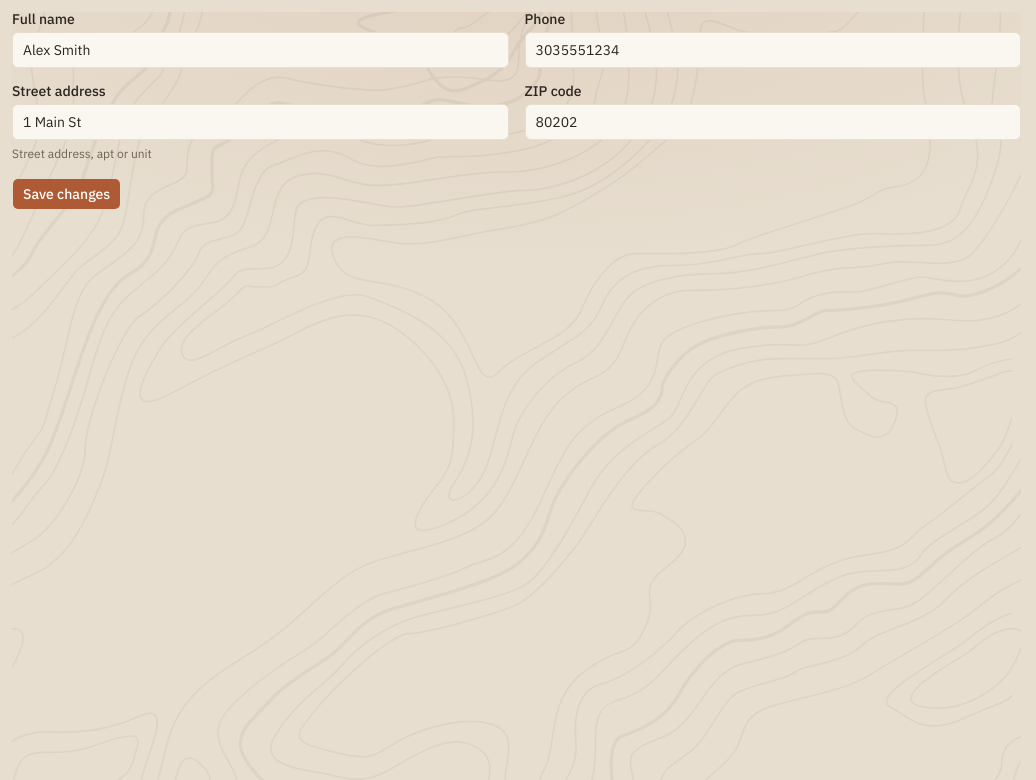
Test case: ProfileForm › preserves edited values and shows the error on server failure
Replace the text in the field labelled "Full name" with "Alex Newname" at x=260, y=50, box [12,32,508,68]
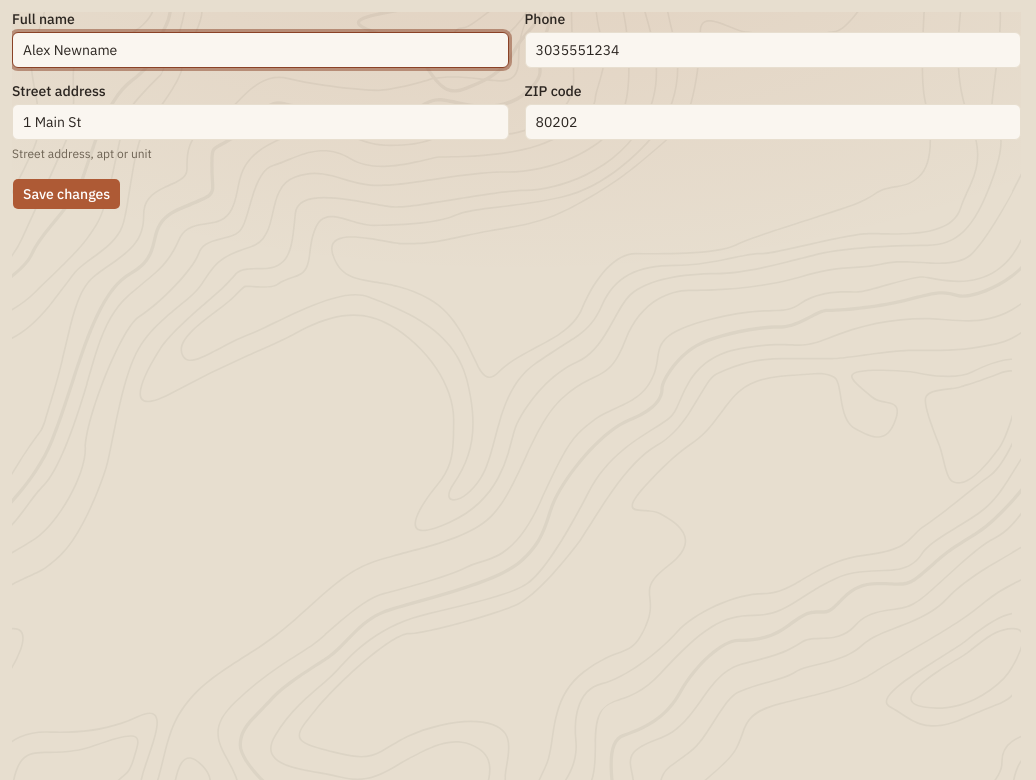
Click the button "Save changes" at x=67, y=194, box [12,178,121,210]
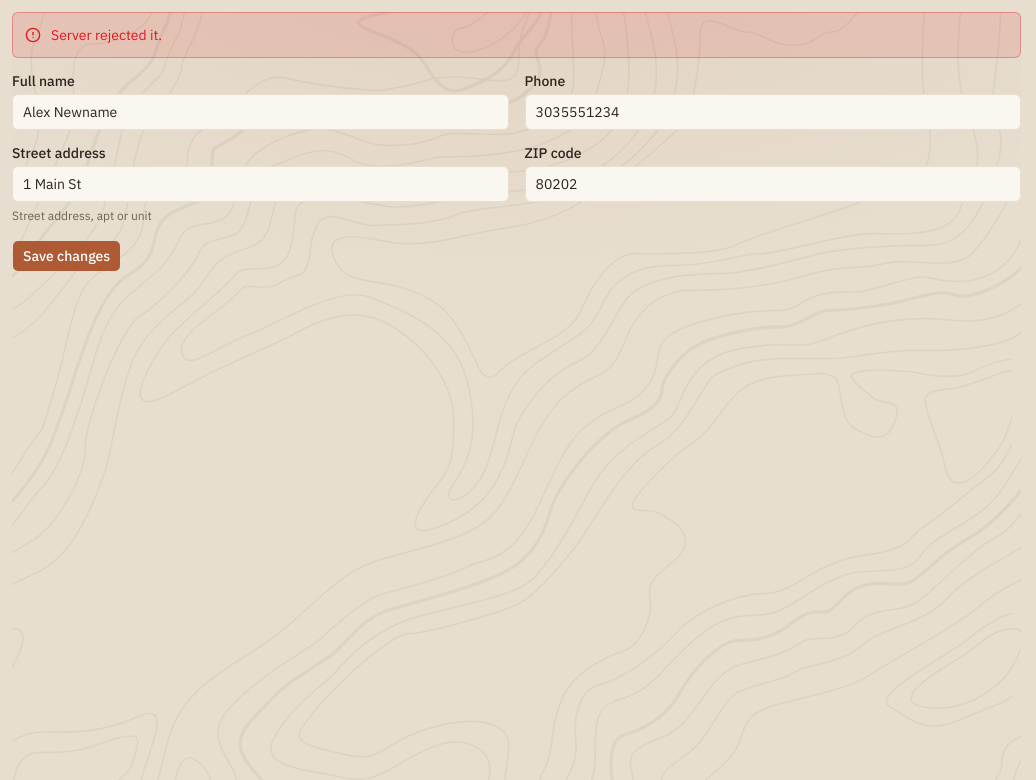
Now the text "Server rejected it." is shown, box [51,25,162,45]
